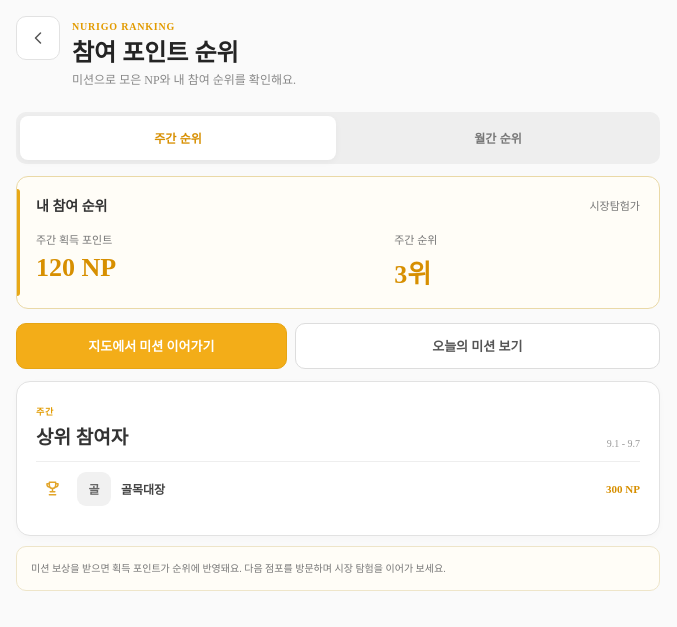
Test: MissionRankingsPage › 내 순위와 기간별 획득 포인트를 표시하고 지도·미션으로 연결한다
Check: the text "주간 획득 포인트" is shown, box [36,234,112,246]
Check: the text "120 NP" is shown, box [36,253,116,282]
Click the tab "월간 순위" at x=498, y=138, box [340,116,656,160]
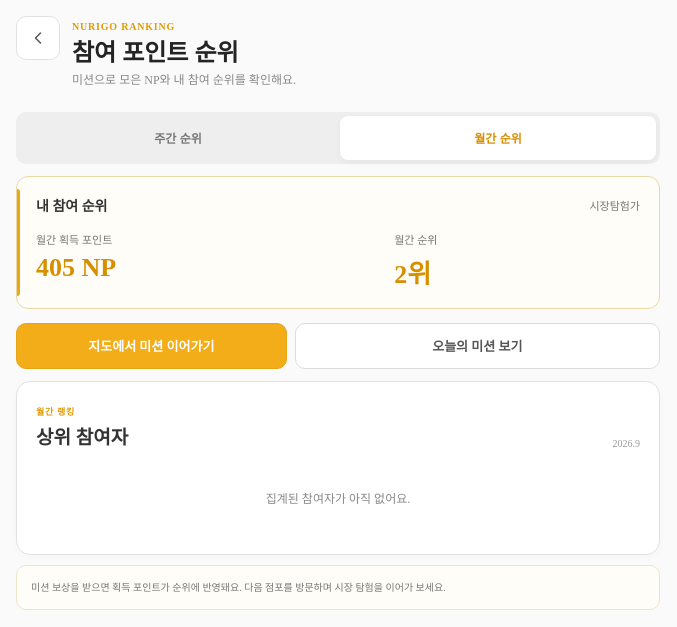
Check: the text "월간 획득 포인트" is shown, box [36,234,112,246]
Check: the text "405 NP" is shown, box [36,253,116,282]
Check: the text "2위" is shown, box [394,260,431,289]
